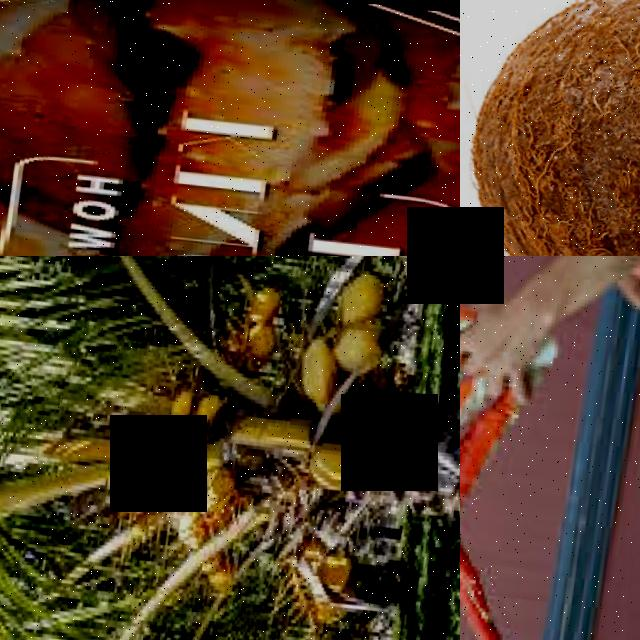coconut: (460, 0, 640, 256), (311, 433, 374, 493), (337, 319, 398, 374), (296, 332, 340, 406), (335, 267, 389, 318)
crab: (460, 366, 541, 640)
